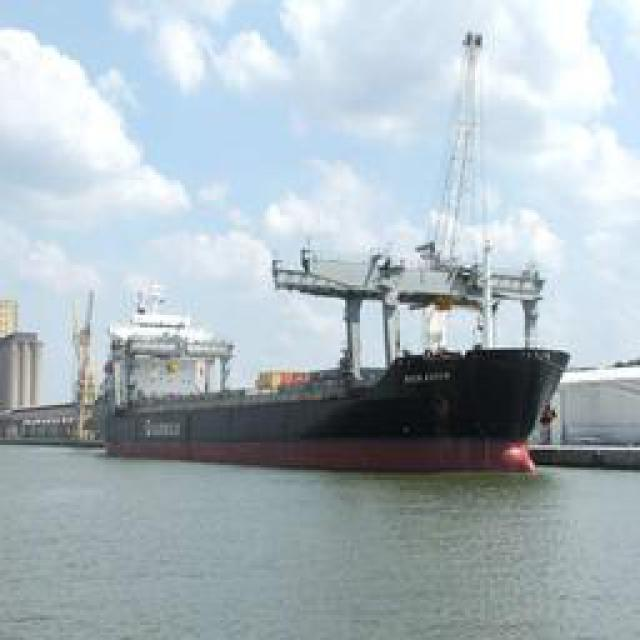Ship: (99, 254, 582, 469)
